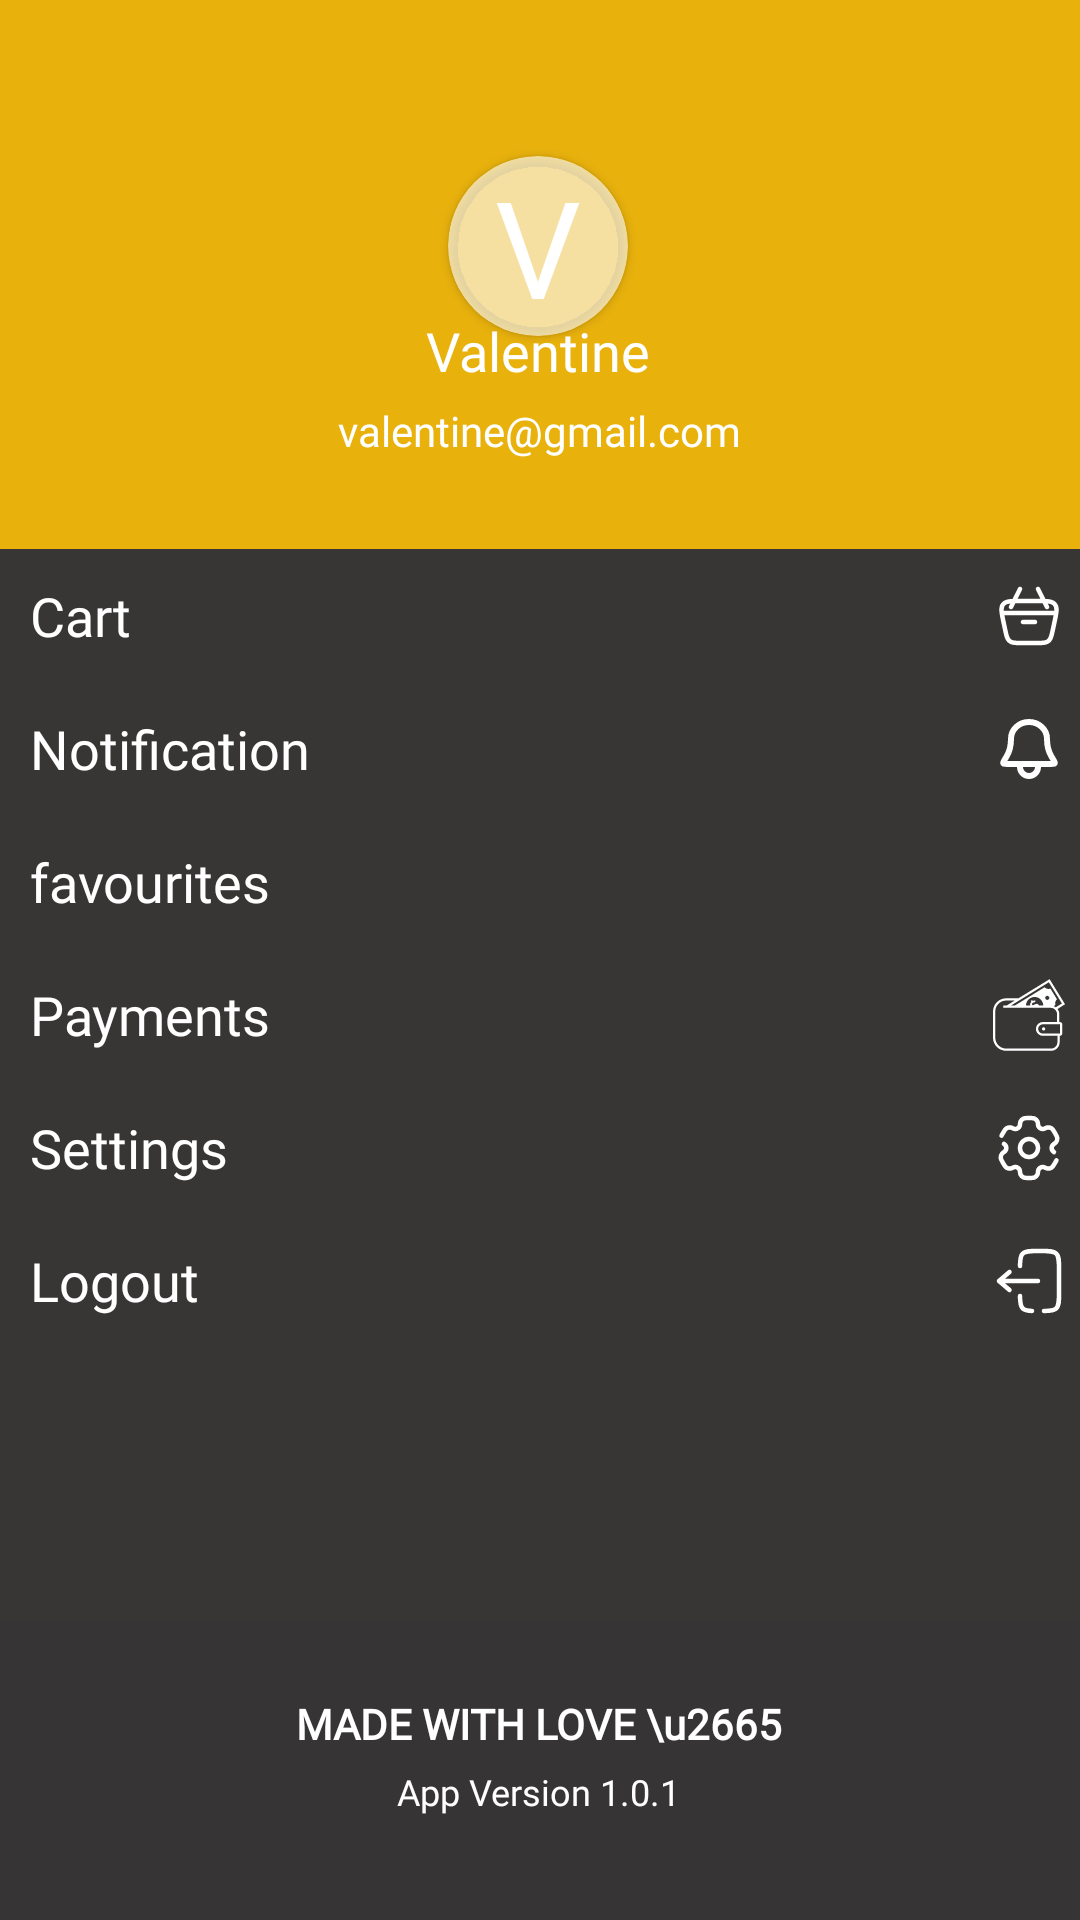

Locate icon controls on the screen. Image size 1080x1920, boxes as box=[x1, y1, x2, y2].
bag: box=[999, 586, 1059, 646]
bellsvg: box=[1000, 719, 1058, 779]
